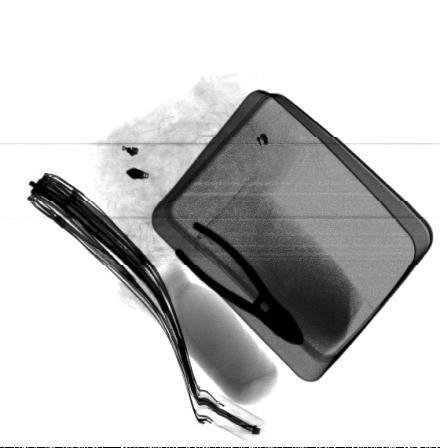Pliers: (173, 219, 305, 346)
